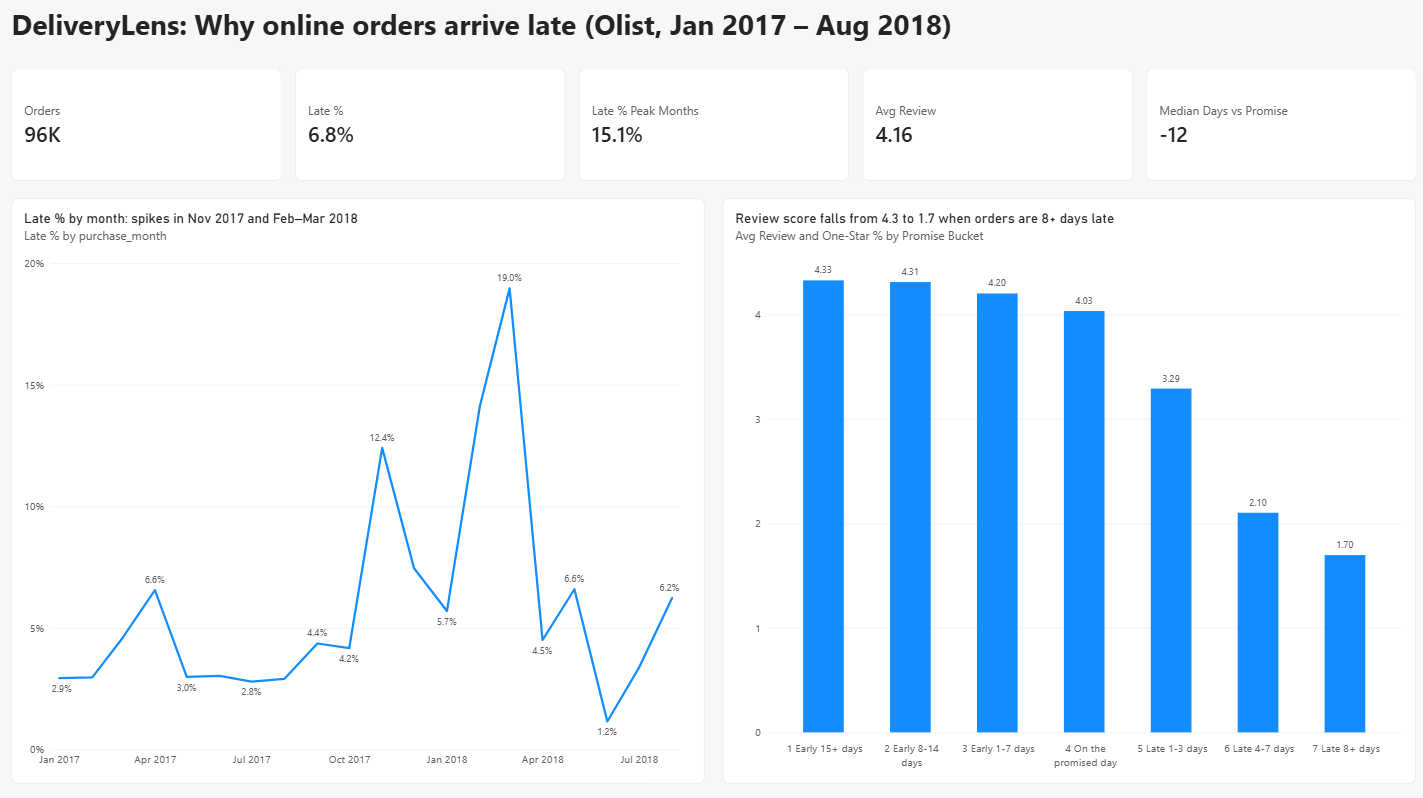

This screenshot's page, from the dashboard's own definition file:
{"tool":"powerbi","page":{"name":"Overview","canvas":[1920,1080],"ordinal":0},"visuals":[{"type":"cardVisual","fields":{"Data":["_Measures.Orders"]},"box":[24,96,360,150],"z":0},{"type":"cardVisual","fields":{"Data":["_Measures.Late %"]},"box":[402,96,360,150],"z":1000},{"type":"cardVisual","fields":{"Data":["_Measures.Median Days vs Promise"]},"box":[1536,96,360,150],"z":2000},{"type":"cardVisual","fields":{"Data":["_Measures.Avg Review"]},"box":[1158,96,360,150],"z":3000},{"type":"textbox","box":[24,12,1872,72],"z":4000},{"type":"cardVisual","fields":{"Data":["_Measures.Late % Peak Months"]},"box":[780,96,360,150],"z":5000},{"type":"lineChart","title":"Late % by month: spikes in Nov 2017 and Feb–Mar 2018","fields":{"Category":["vw_delivered_orders.purchase_month"],"Y":["_Measures.Late %"]},"box":[24,270,924,780],"z":6000},{"type":"clusteredColumnChart","title":"Review score falls from 4.3 to 1.7 when orders are 8+ days late","fields":{"Category":["vw_delivered_orders.Promise Bucket"],"Y":["_Measures.Avg Review"]},"box":[972,270,924,780],"z":7000}]}

Visuals, with their boxes in screenshot pixels (x1, y1, x2, y2), scaled from the page's 1920x1080 canvas onto the 1423x798 screenshot:
cardVisual - _Measures.Orders: x1=18 y1=71 x2=285 y2=182
cardVisual - _Measures.Late %: x1=298 y1=71 x2=565 y2=182
cardVisual - _Measures.Median Days vs Promise: x1=1138 y1=71 x2=1405 y2=182
cardVisual - _Measures.Avg Review: x1=858 y1=71 x2=1125 y2=182
textbox: x1=18 y1=9 x2=1405 y2=62
cardVisual - _Measures.Late % Peak Months: x1=578 y1=71 x2=845 y2=182
"Late % by month: spikes in Nov 2017 and Feb–Mar 2018" lineChart: x1=18 y1=200 x2=703 y2=776
"Review score falls from 4.3 to 1.7 when orders are 8+ days late" clusteredColumnChart: x1=720 y1=200 x2=1405 y2=776
